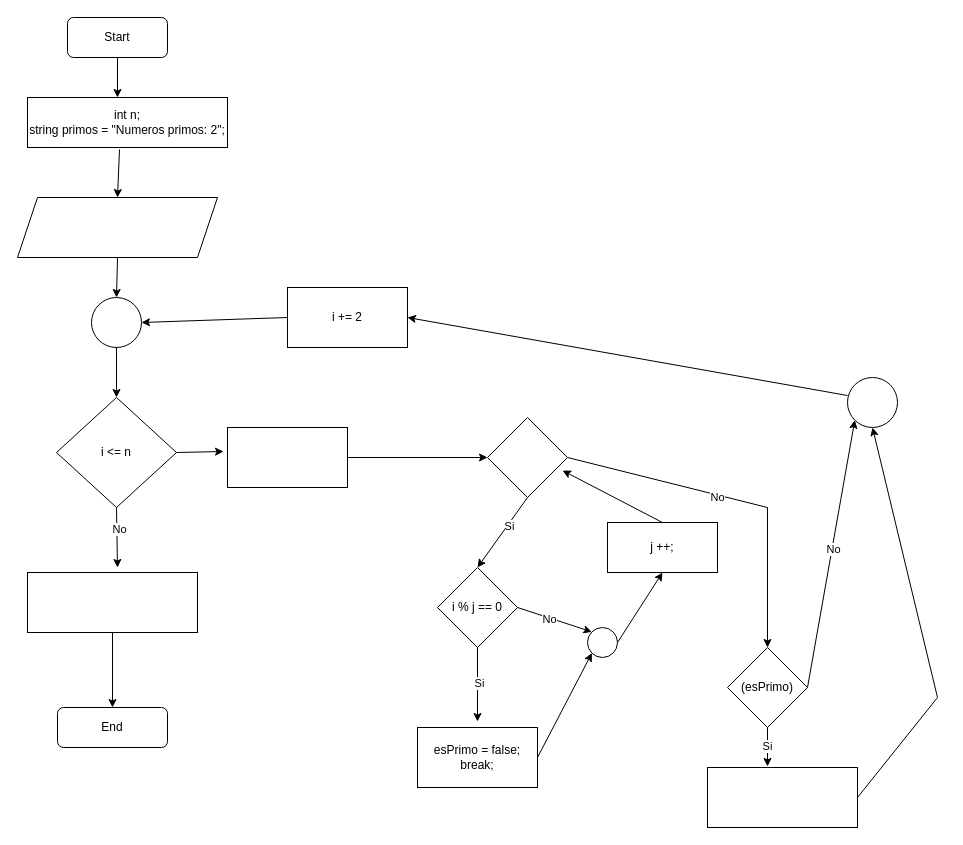
The diagram is 963 pixels wide and 845 high, and some of its shapes have lost their labels. Here are the shapes that lost their labels. From the top down, the centre of each, then its label:
(117,227): "Ingrese el numero hasta donde quiera obtener los primos"
(287,457): bool esPrimo = true;
(527,457): j * j < = i
(112,602): textBox4.Text = primos;
(782,797): primos += ", " + i.ToString();
